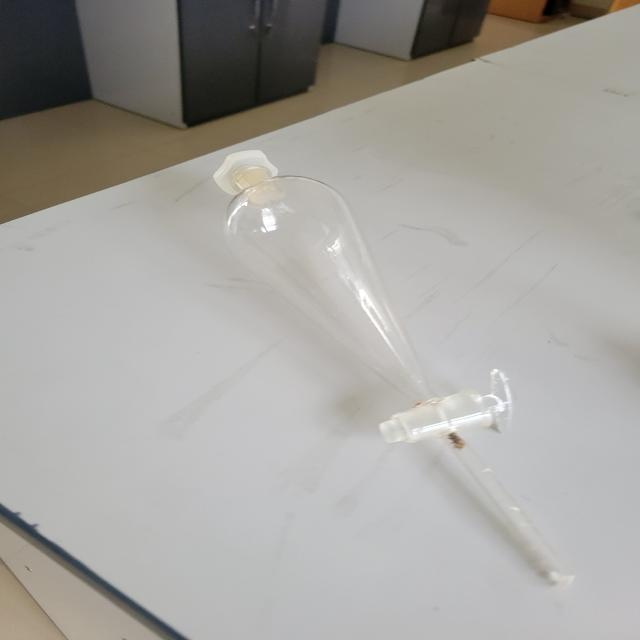Separating_Funnel: (182, 121, 598, 602)
